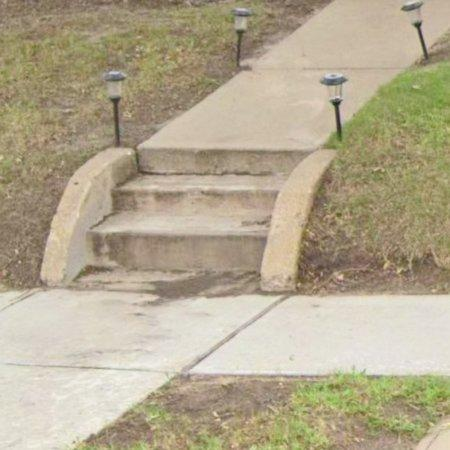stairs: (88, 174, 287, 271)
